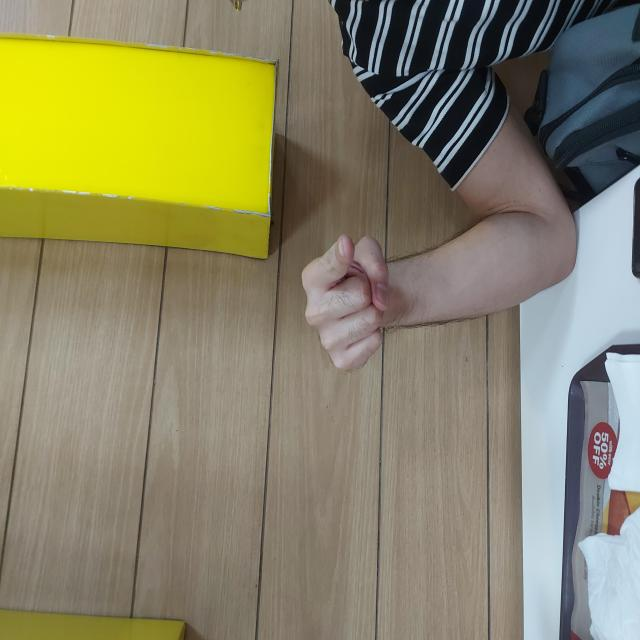Z: (266, 298, 408, 389)
